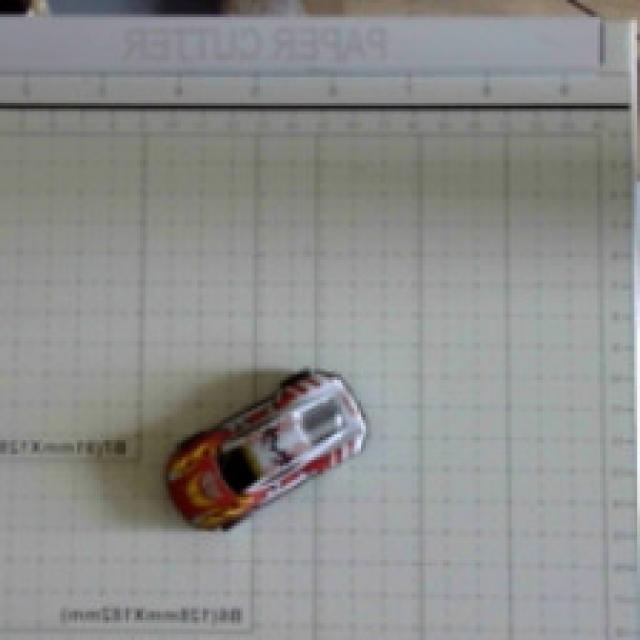Red Car: (144, 342, 396, 548)
